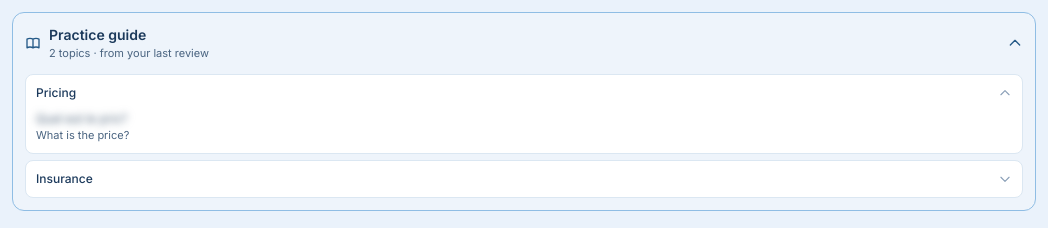
Test: PracticeGuidePanel › renders practice guide with topic accordions
expect the text "Practice guide" is shown: met, box top-left (49, 26), bottom-right (146, 43)
expect the text "2 topics · from your last review" is shown: met, box top-left (49, 46), bottom-right (209, 60)
Click the button "Insurance" at (64, 178), box top-left (26, 161), bottom-right (1022, 197)
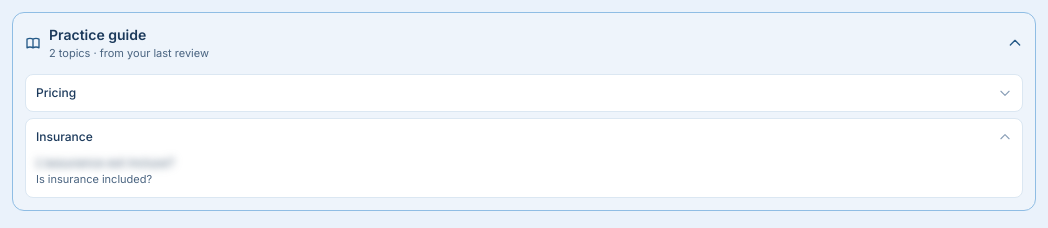
expect the text "L'assurance est incluse?" is shown: met, box top-left (36, 154), bottom-right (174, 170)
